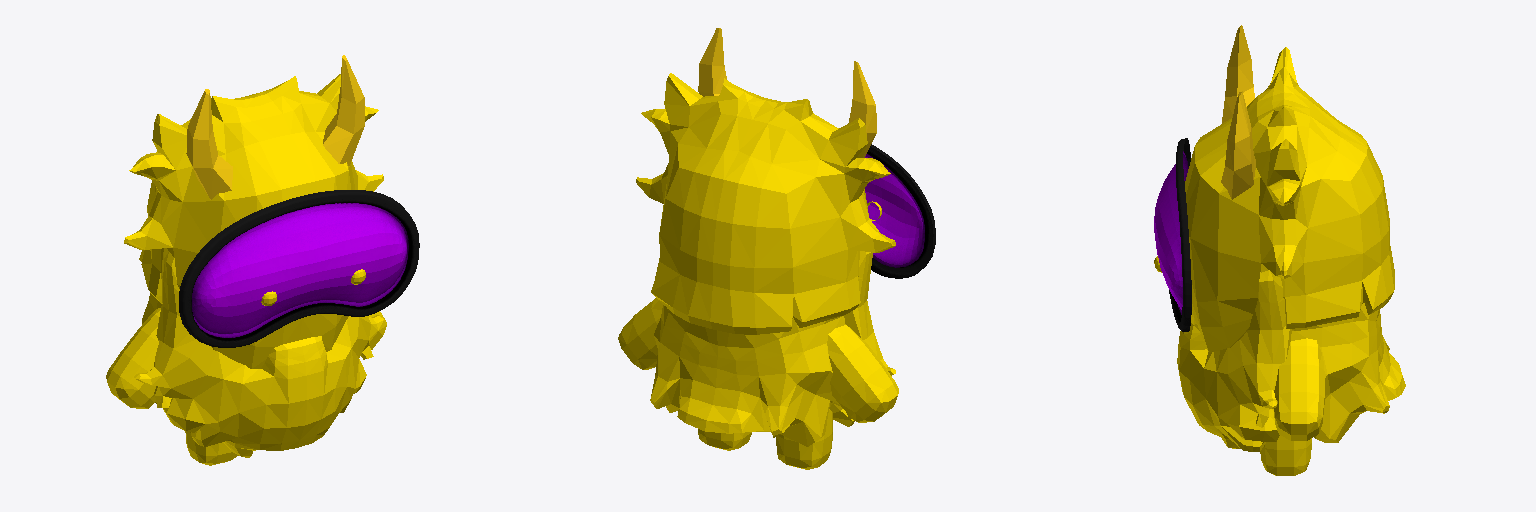
3 views of the same model, side by side, from view 1: azimuth 30°, elevation 25°; view 2: azimuth 150°, elevation 25°; view 3: azimuth 270°, elevation 25° (orthographic).
Parts seen in each view (by area): view 1: rm; view 2: rm; view 3: rm.
Part boxes in pixels (x1,y1,x2,y2): rm: (106, 55, 419, 465); rm: (618, 28, 935, 469); rm: (1154, 25, 1405, 475).
Size of the model in its own units: 4.56 by 6.36 by 3.68.
2 materials, 1 textured.